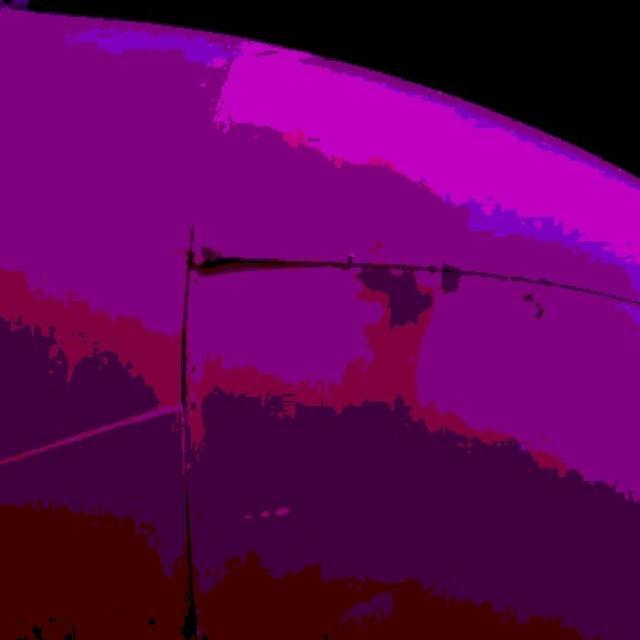crack: (193, 253, 349, 272)
